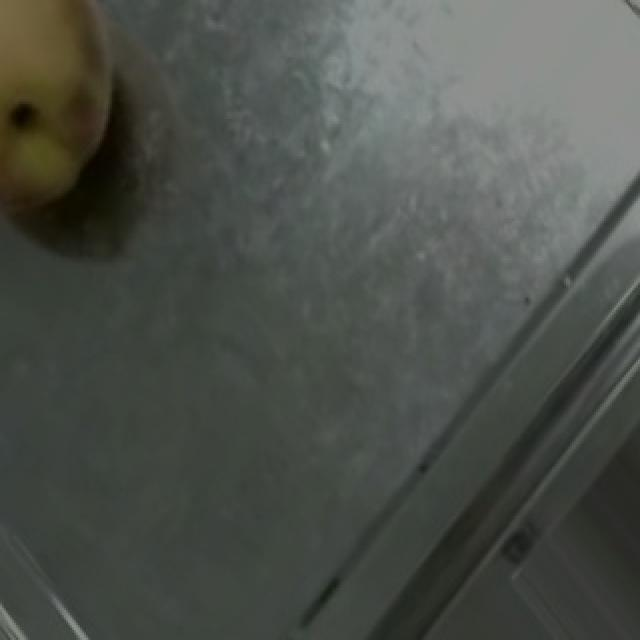Fruit: (0, 0, 154, 231)
